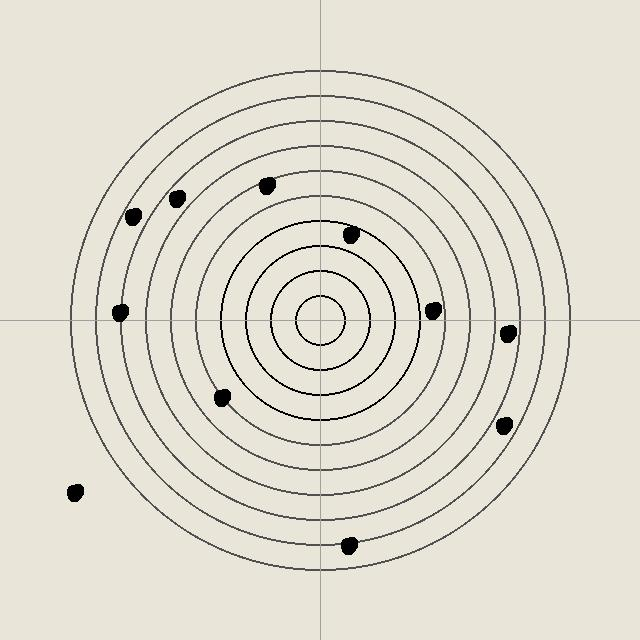random_scatter: (122, 206, 142, 226), (211, 387, 231, 407), (497, 323, 517, 343), (109, 302, 129, 322), (166, 188, 186, 208), (422, 300, 442, 320), (256, 175, 276, 195), (64, 482, 84, 502), (340, 224, 360, 244), (338, 535, 358, 555), (493, 415, 513, 435)
